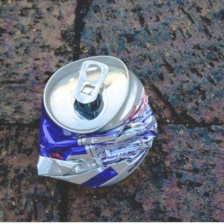can: (33, 52, 163, 192)
